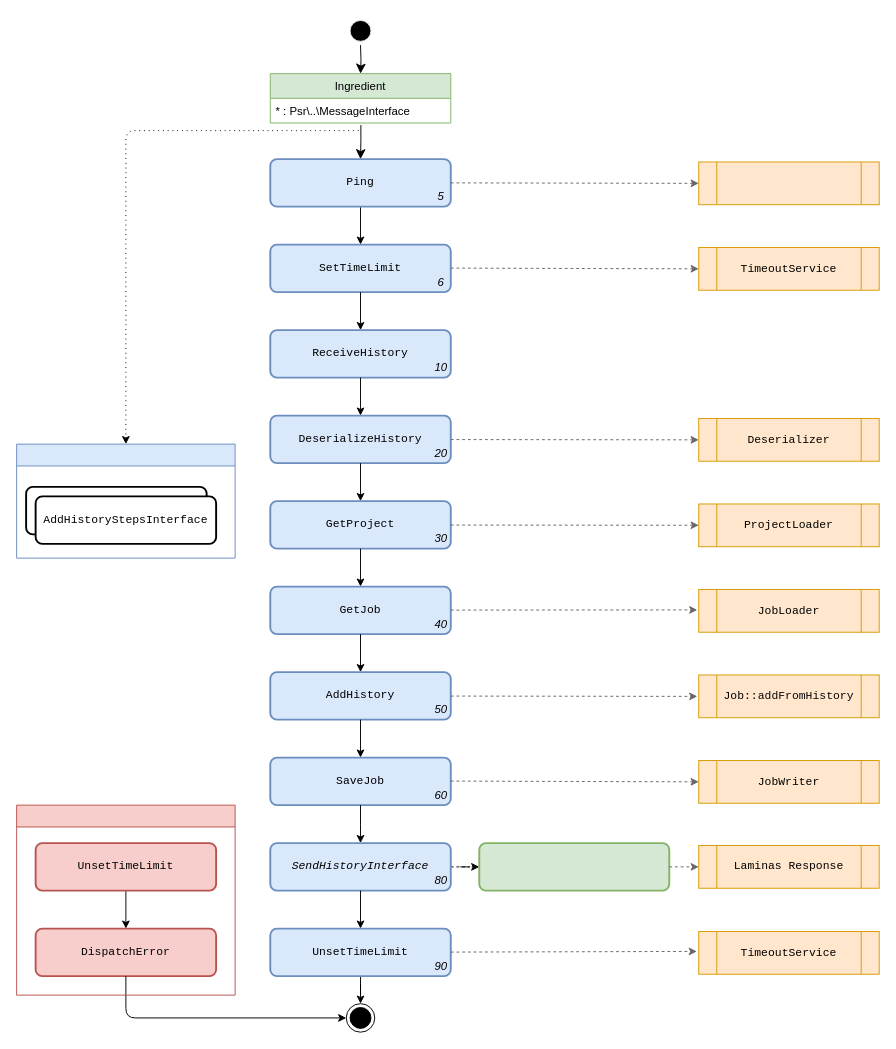
The diagram is 896 pixels wide and 1049 high, and some of its shapes have lost their labels. The shapes that lost their labels are listed below. From the top down, each one's centre as x and y in pixels, then its label:
the point at 788,183: PingService
the point at 125,500: To extends, add step in
the point at 574,866: Laminas/../ SendHistory
the point at 125,899: On Error
